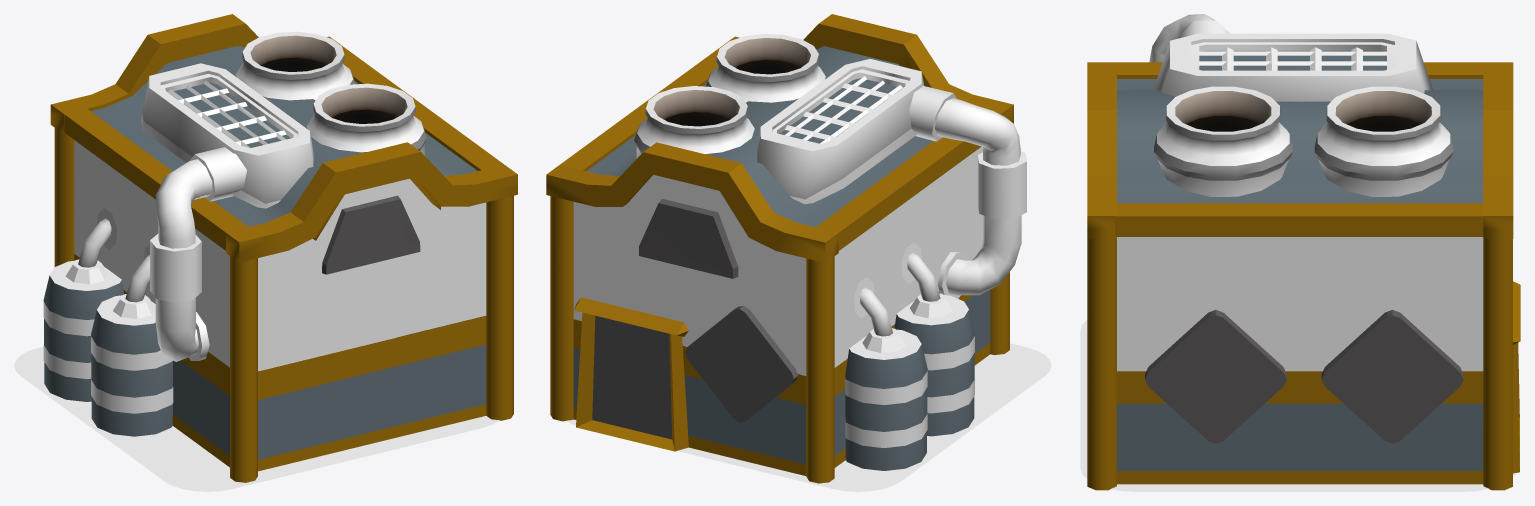
The model's file is CordialChemist_IronTeeth.fbx.
The picture shows the model from 3 angles, left to right: view 1: azimuth 30°, elevation 25°; view 2: azimuth 150°, elevation 25°; view 3: azimuth 270°, elevation 25°; orthographic projection. The views are drawn at different scales.
Parts seen in each view (by area): view 1: CordialChemist.IronTeeth.ConstructionStage0.Model, CordialChemist.IronTeeth.049, CordialChemist.IronTeeth.039, CordialChemist.IronTeeth.024, CordialChemist.IronTeeth.050, CordialChemist.IronTeeth.043, CordialChemist.IronTeeth.035, CordialChemist.IronTeeth.027, CordialChemist.IronTeeth.004, CordialChemist.IronTeeth.042, CordialChemist.IronTeeth.022, CordialChemist.IronTeeth.006 (+27 smaller); view 2: CordialChemist.IronTeeth.ConstructionStage0.Model, CordialChemist.IronTeeth.046, CordialChemist.IronTeeth.050, CordialChemist.IronTeeth.043, CordialChemist.IronTeeth.031, CordialChemist.IronTeeth.032, CordialChemist.IronTeeth.035, CordialChemist.IronTeeth.010, CordialChemist.IronTeeth.003, CordialChemist.IronTeeth.036, CordialChemist.IronTeeth.006, CordialChemist.IronTeeth.042 (+31 smaller); view 3: CordialChemist.IronTeeth.047, CordialChemist.IronTeeth.ConstructionStage0.Model, CordialChemist.IronTeeth.038, CordialChemist.IronTeeth.035, CordialChemist.IronTeeth.006, CordialChemist.IronTeeth.042, CordialChemist.IronTeeth.033, CordialChemist.IronTeeth.073, CordialChemist.IronTeeth.043, CordialChemist.IronTeeth.023, CordialChemist.IronTeeth.019, CordialChemist.IronTeeth.020 (+14 smaller).
Part boxes in pixels (box(x1,y1,x2,y2)): CordialChemist.IronTeeth.ConstructionStage0.Model: box(14, 35, 513, 491); CordialChemist.IronTeeth.049: box(258, 178, 486, 371); CordialChemist.IronTeeth.039: box(258, 344, 486, 459); CordialChemist.IronTeeth.024: box(226, 142, 517, 262); CordialChemist.IronTeeth.050: box(74, 140, 229, 367); CordialChemist.IronTeeth.043: box(141, 63, 313, 208); CordialChemist.IronTeeth.035: box(91, 46, 477, 226); CordialChemist.IronTeeth.027: box(258, 316, 486, 399); CordialChemist.IronTeeth.004: box(91, 310, 172, 436); CordialChemist.IronTeeth.042: box(306, 83, 426, 155); CordialChemist.IronTeeth.022: box(230, 256, 257, 482); CordialChemist.IronTeeth.006: box(235, 31, 355, 100); CordialChemist.IronTeeth.ConstructionStage0.Model: box(546, 21, 1051, 491); CordialChemist.IronTeeth.046: box(573, 174, 806, 375); CordialChemist.IronTeeth.050: box(834, 146, 983, 367); CordialChemist.IronTeeth.043: box(757, 59, 924, 204); CordialChemist.IronTeeth.031: box(592, 315, 672, 439); CordialChemist.IronTeeth.032: box(685, 305, 798, 422); CordialChemist.IronTeeth.035: box(586, 46, 932, 227); CordialChemist.IronTeeth.010: box(546, 142, 838, 261); CordialChemist.IronTeeth.003: box(845, 344, 927, 470); CordialChemist.IronTeeth.036: box(573, 348, 806, 464); CordialChemist.IronTeeth.006: box(634, 86, 754, 158); CordialChemist.IronTeeth.042: box(706, 34, 825, 102); CordialChemist.IronTeeth.047: box(1117, 237, 1483, 371); CordialChemist.IronTeeth.ConstructionStage0.Model: box(1080, 62, 1516, 491); CordialChemist.IronTeeth.038: box(1117, 403, 1483, 470); CordialChemist.IronTeeth.035: box(1117, 79, 1483, 203); CordialChemist.IronTeeth.006: box(1314, 86, 1453, 196); CordialChemist.IronTeeth.042: box(1154, 86, 1292, 196); CordialChemist.IronTeeth.033: box(1321, 310, 1463, 443); CordialChemist.IronTeeth.073: box(1145, 310, 1286, 443); CordialChemist.IronTeeth.043: box(1153, 33, 1432, 101); CordialChemist.IronTeeth.023: box(1115, 216, 1483, 236); CordialChemist.IronTeeth.019: box(1087, 239, 1116, 490); CordialChemist.IronTeeth.020: box(1483, 239, 1512, 490).
Size of what is drawn, in the model's own units: 204 by 169 by 206.
